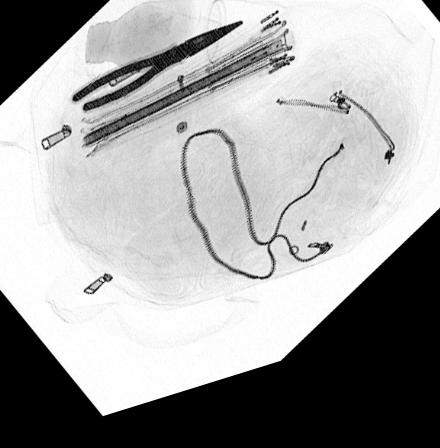Pliers: (68, 32, 245, 119)
